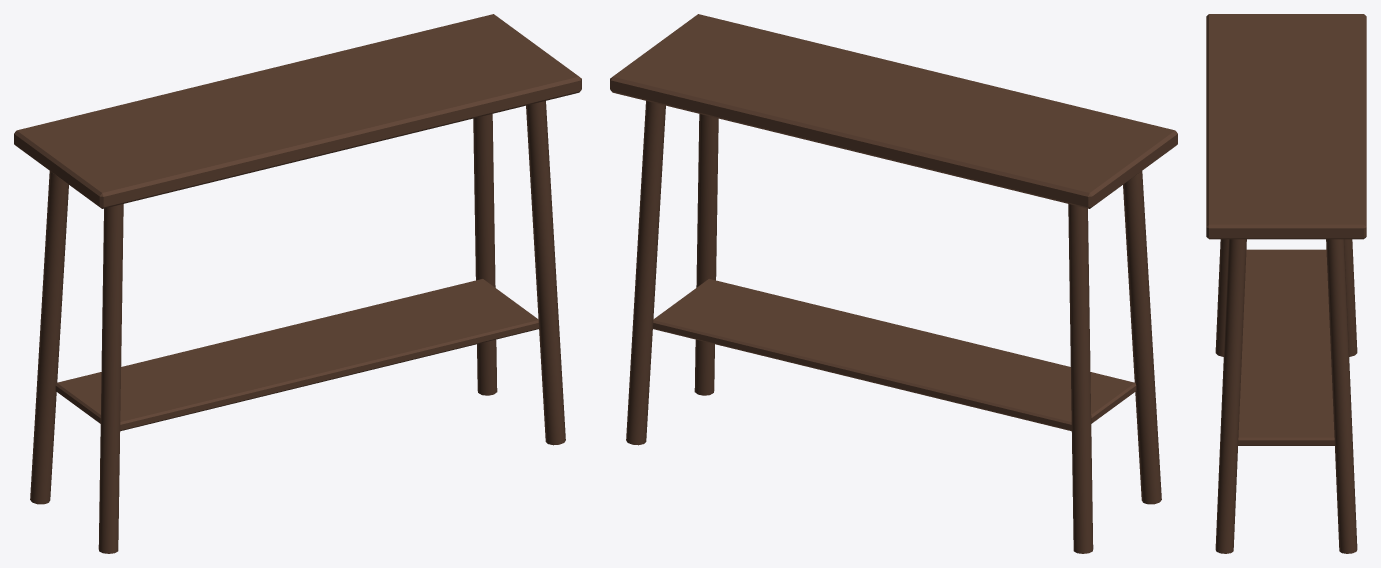
The model's file is i_table_19.glb.
3 renders of one model, left to right at view 1: azimuth 30°, elevation 25°; view 2: azimuth 150°, elevation 25°; view 3: azimuth 270°, elevation 25°, orthographic. The views are drawn at different scales.
Visible parts, largest first — view 1: o, o.005, o.003, o.001, o.002, o.004; view 2: o, o.005, o.004, o.002, o.001, o.003; view 3: o, o.005, o.003, o.004, o.001, o.002.
Boxes of the visible parts, <box> form: o: <box>14,14,581,208</box>; o.005: <box>55,279,538,430</box>; o.003: <box>526,101,565,445</box>; o.001: <box>98,204,123,553</box>; o.002: <box>30,171,68,504</box>; o.004: <box>473,114,497,395</box>; o: <box>610,14,1177,208</box>; o.005: <box>653,279,1136,430</box>; o.004: <box>626,101,665,445</box>; o.002: <box>1068,204,1093,553</box>; o.001: <box>1123,171,1161,504</box>; o.003: <box>694,114,718,395</box>; o: <box>1206,14,1366,239</box>; o.005: <box>1238,249,1334,445</box>; o.003: <box>1215,239,1246,553</box>; o.004: <box>1326,239,1357,553</box>; o.001: <box>1215,239,1228,356</box>; o.002: <box>1344,239,1357,356</box>.
Bounding box in the file's own units: 1.1 × 0.8011 × 0.35.
